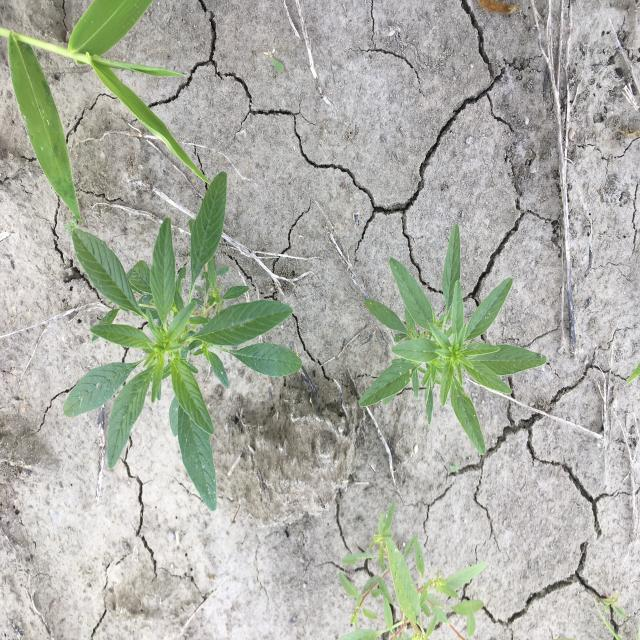Waterhemp: (62, 171, 304, 514), (357, 223, 548, 456), (336, 502, 490, 638)
